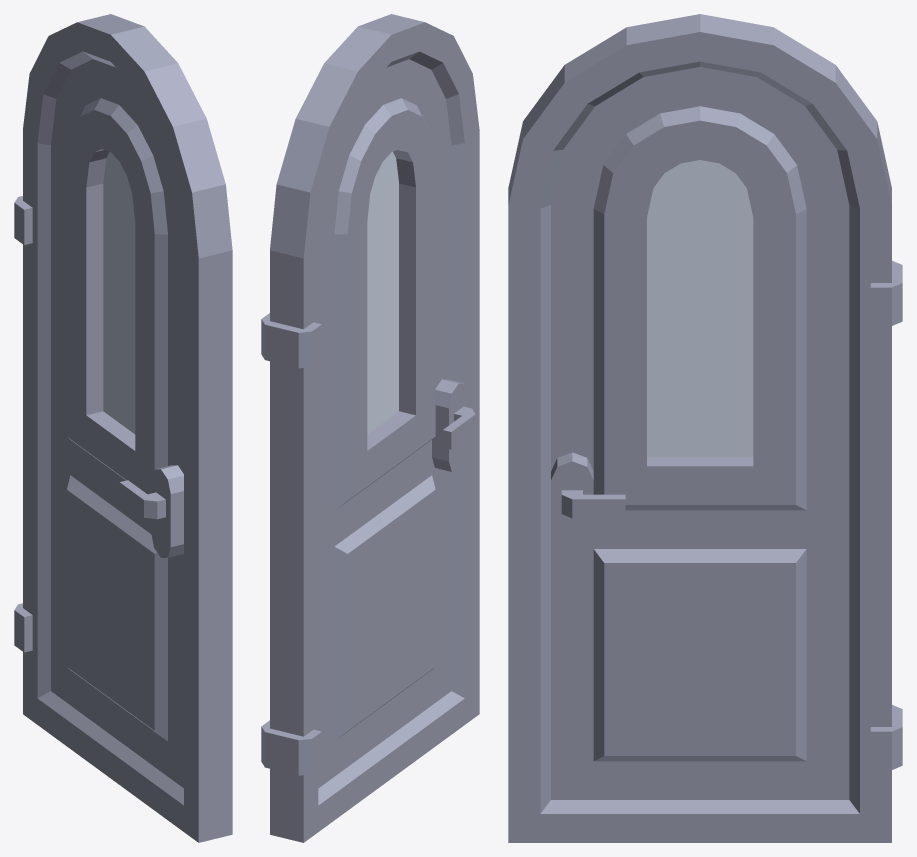
The model's file is door-rotate-round-d.obj.
3 views of the same model, side by side, from view 1: azimuth 30°, elevation 25°; view 2: azimuth 150°, elevation 25°; view 3: azimuth 270°, elevation 25° (orthographic). The views are drawn at different scales.
Bounding box in the file's own units: 0.25 × 2.1 × 0.925.
